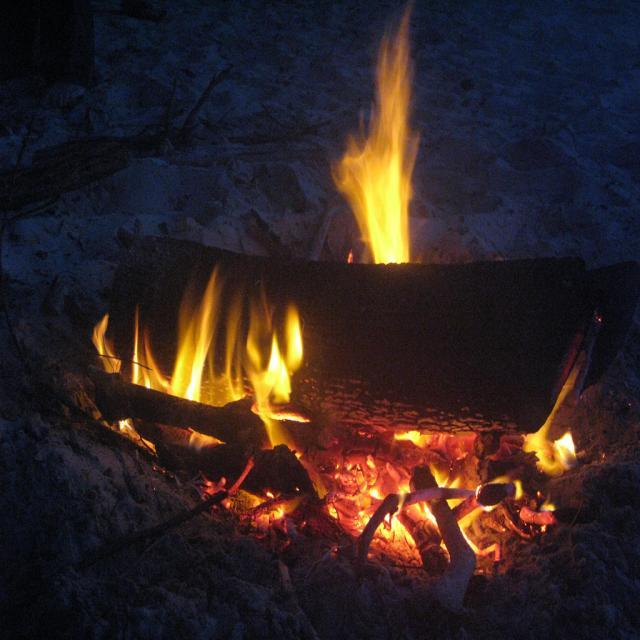Fire: (360, 153, 404, 267), (266, 318, 306, 394), (175, 330, 209, 392)
